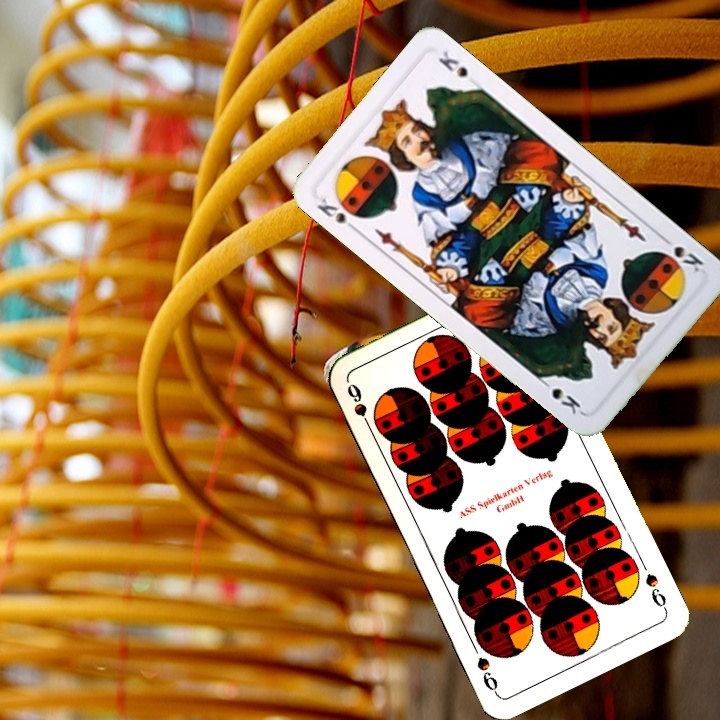S9: (342, 379, 376, 435), (641, 569, 670, 614)
SK: (656, 231, 707, 275), (312, 194, 362, 236)
